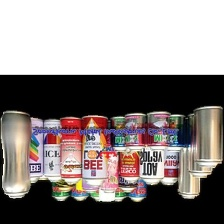aerosol_cans: (0, 109, 33, 201), (79, 113, 109, 189), (17, 115, 46, 188), (192, 104, 224, 170), (176, 121, 202, 200), (58, 114, 86, 185), (136, 125, 167, 188), (41, 117, 67, 184), (156, 120, 182, 187), (116, 127, 144, 186), (49, 137, 73, 204), (97, 133, 120, 194), (127, 139, 148, 205), (70, 140, 90, 204), (144, 109, 172, 153), (107, 113, 134, 154), (162, 112, 187, 154), (122, 112, 147, 152)
